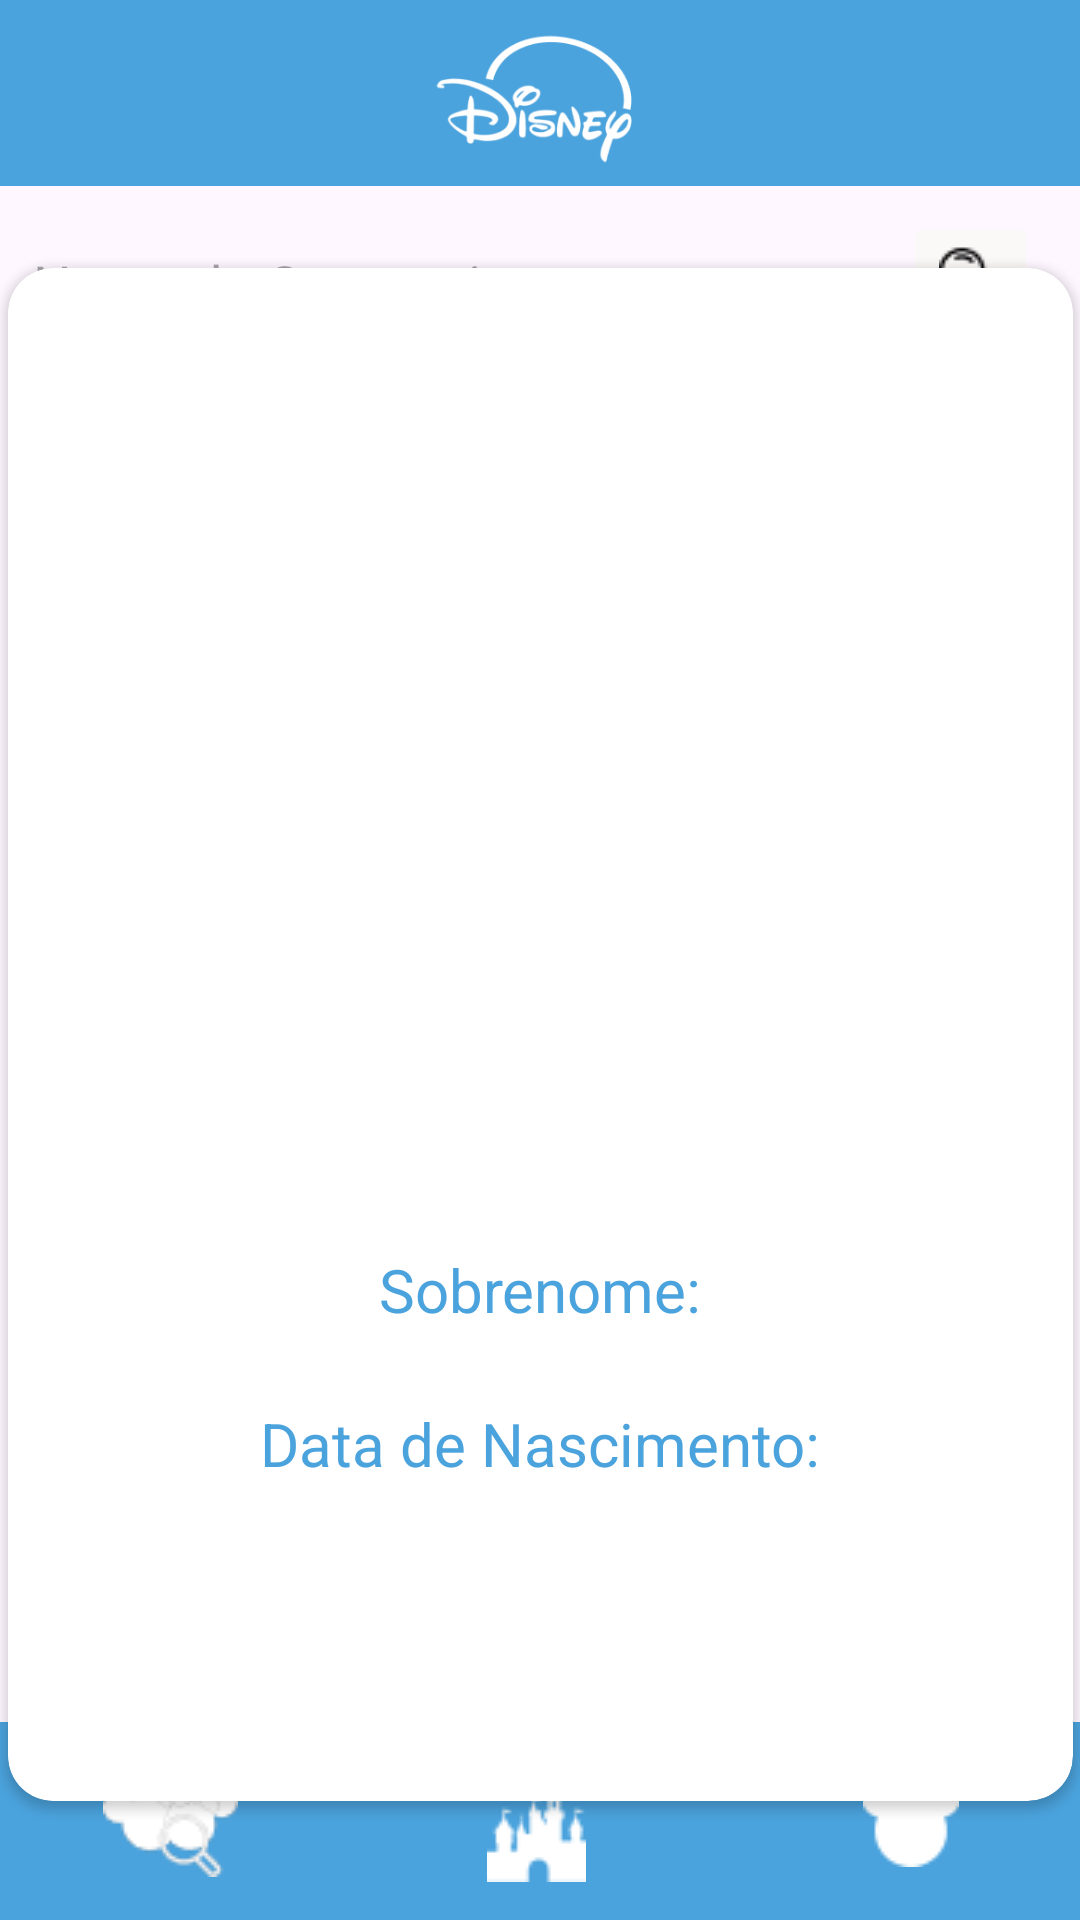

Point at icon controls on the screen. Image size 1080*1920, points as [x,y].
home: [536,1860]
